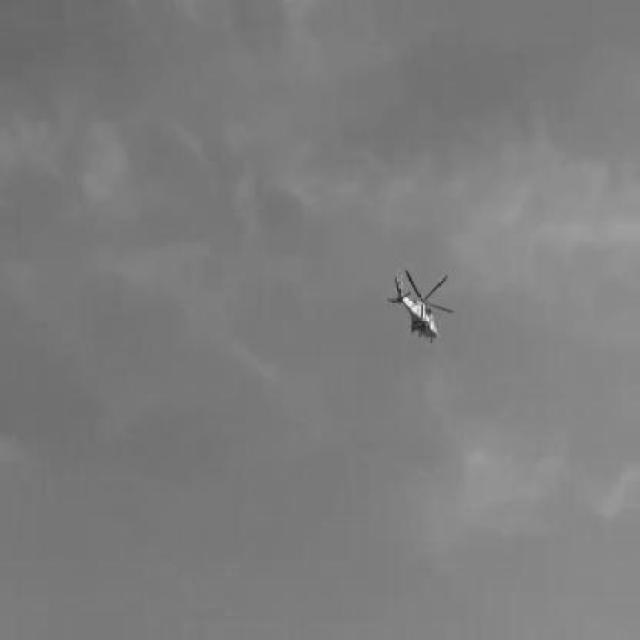helikopter: (388, 270, 450, 342)
